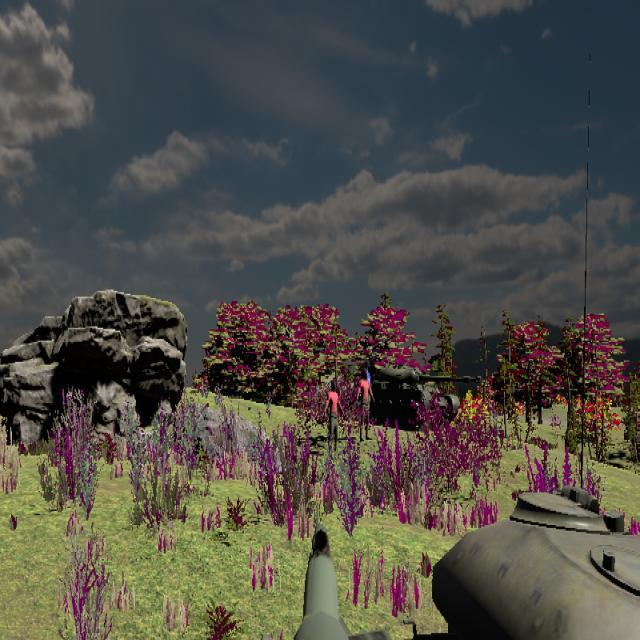Human: (324, 379, 345, 460), (356, 367, 376, 441)
Tank: (388, 483, 639, 640), (340, 363, 481, 428)
